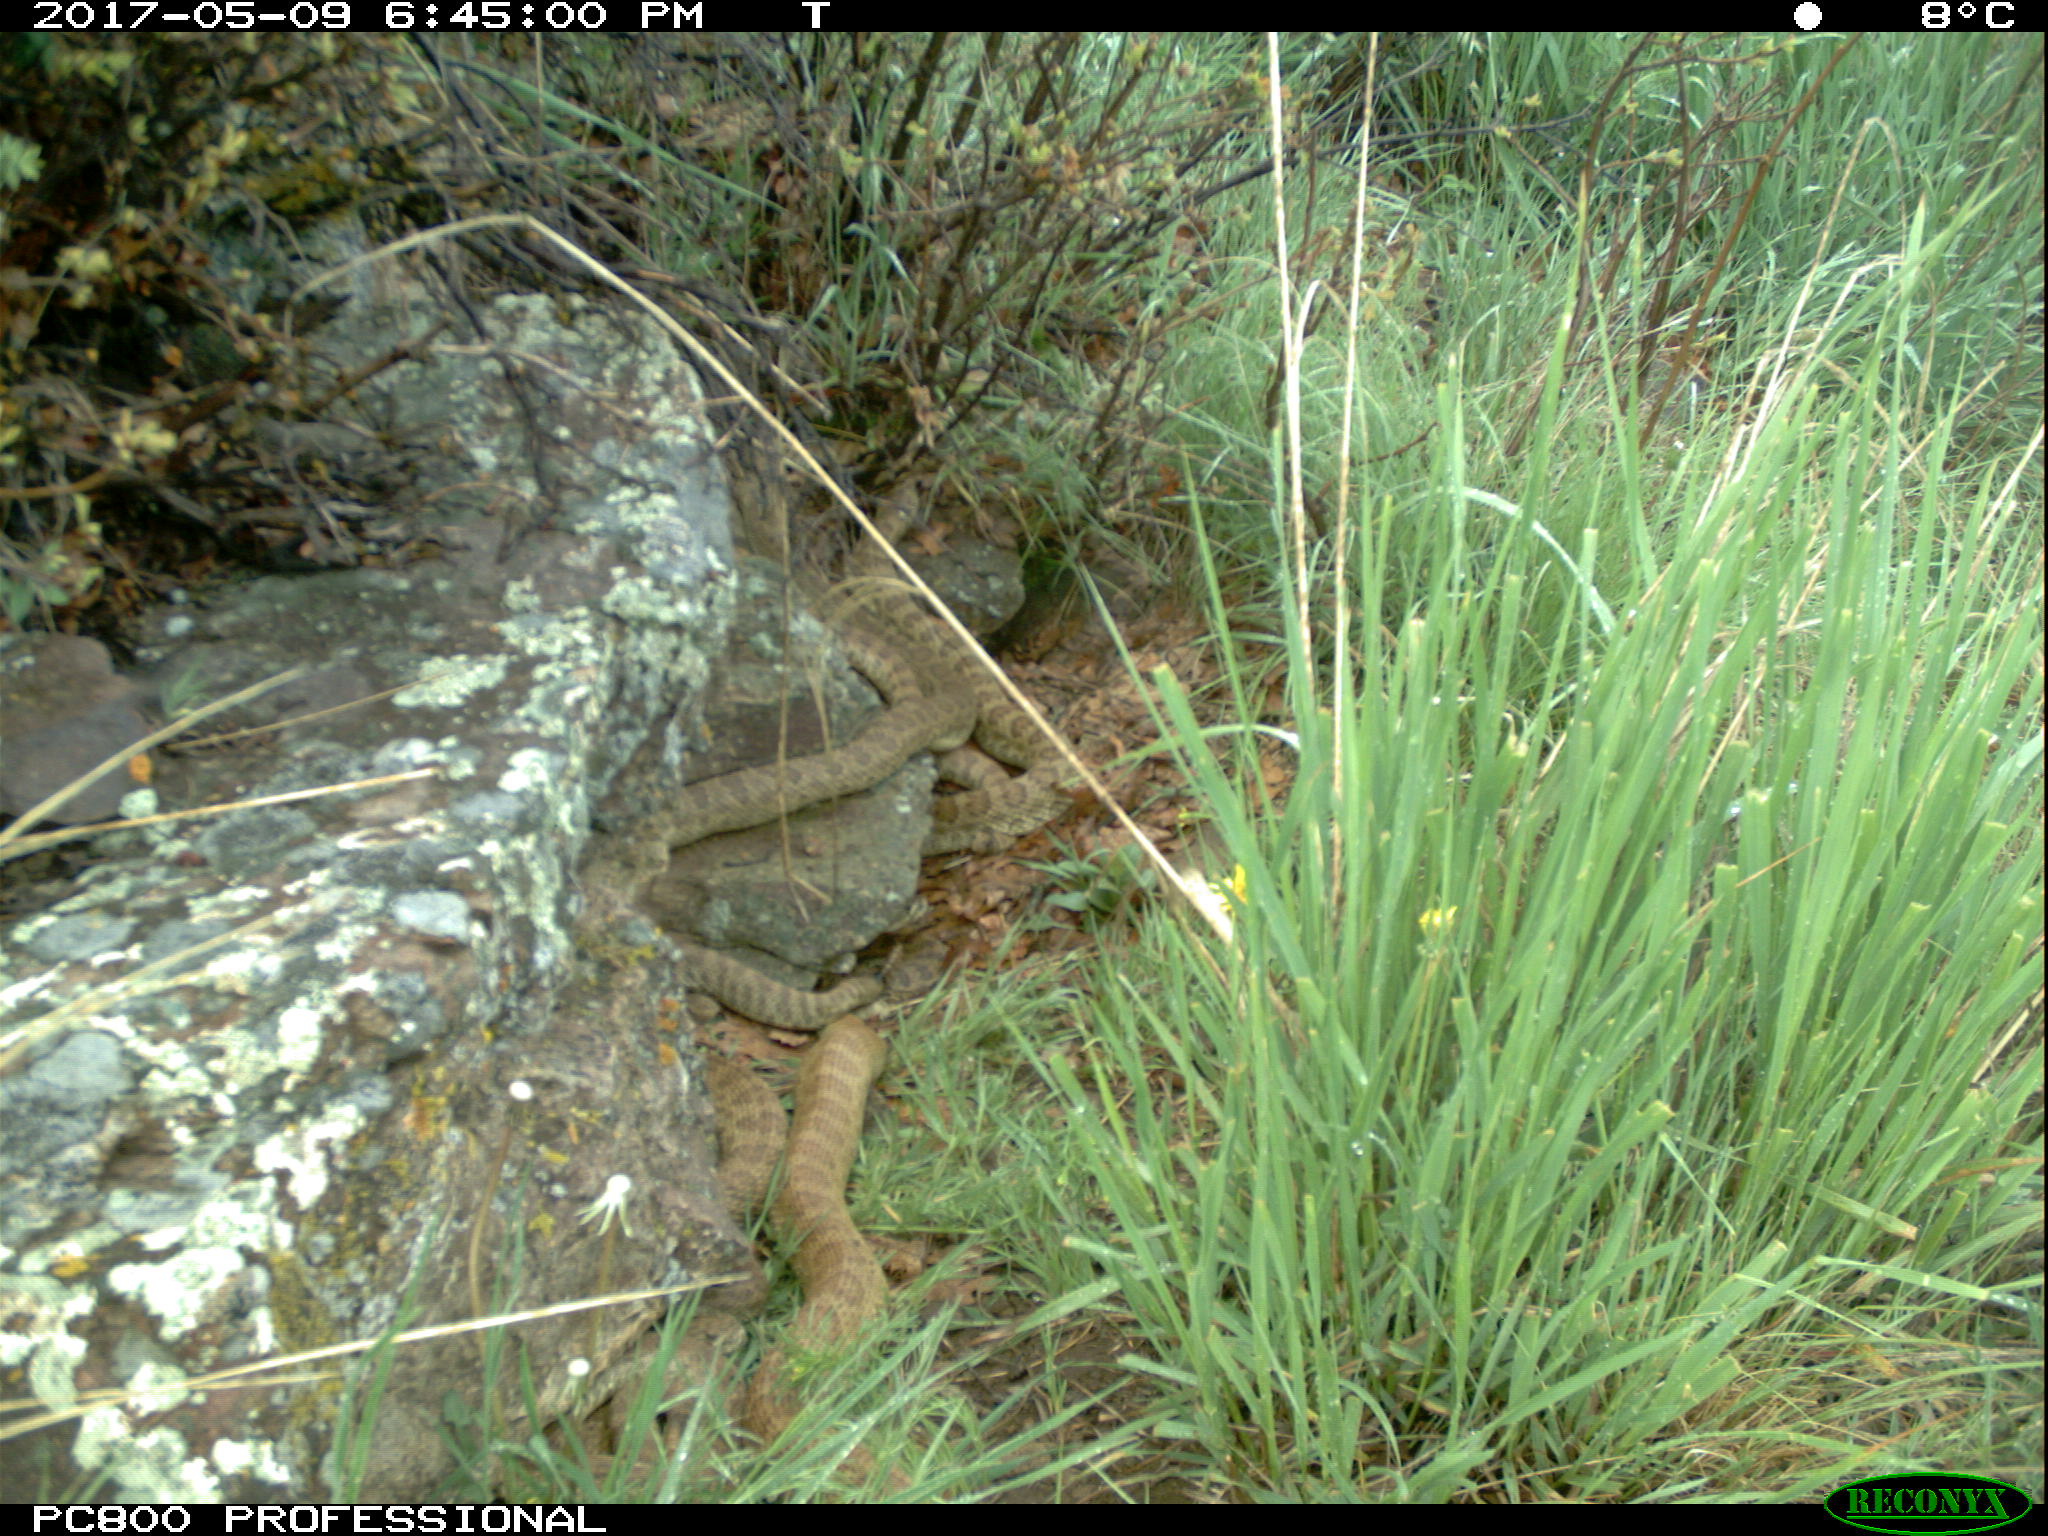snake: (668, 947, 901, 1504), (668, 679, 977, 866), (826, 557, 992, 753), (951, 686, 1080, 839), (860, 489, 930, 563)
